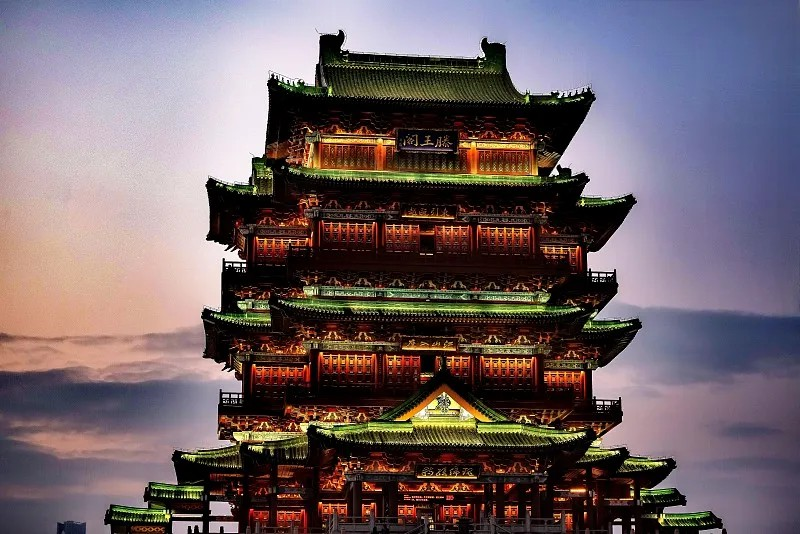Teng: (103, 29, 723, 534)
